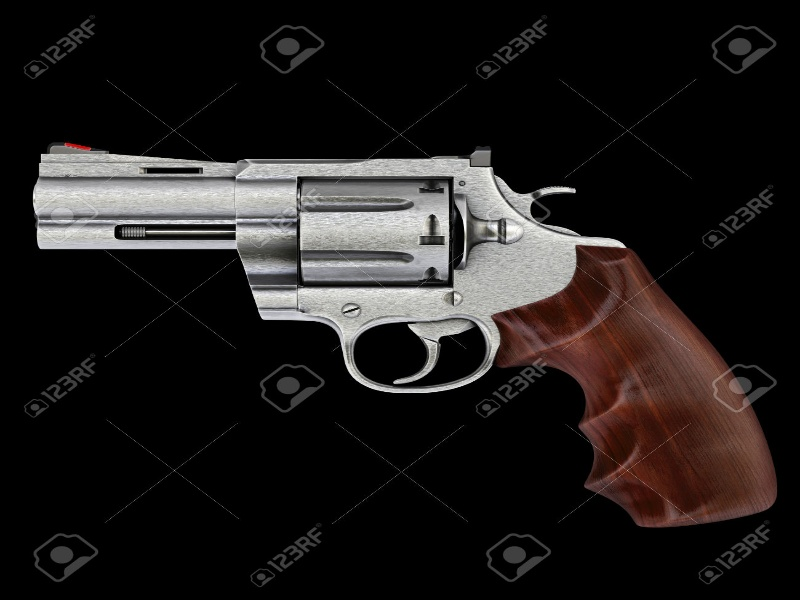gun: (29, 126, 773, 526)
